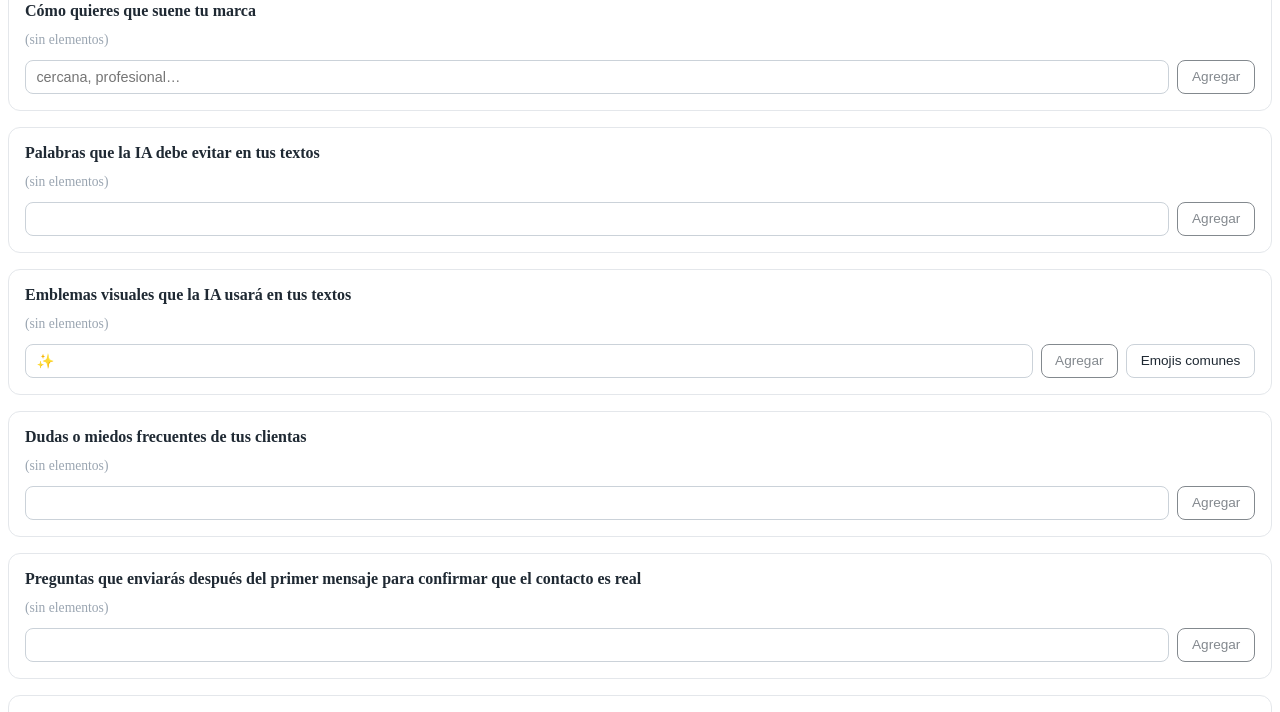
Test: BusinessProfileForm › cierra el popover de emojis al pulsar Escape
(page scrolled)
Expected: the field named "agregar emblemas visuales" is shown, [25, 344, 1032, 378]
Click the button "Emojis comunes" at (1191, 361), box [1126, 344, 1255, 378]
(page scrolled)
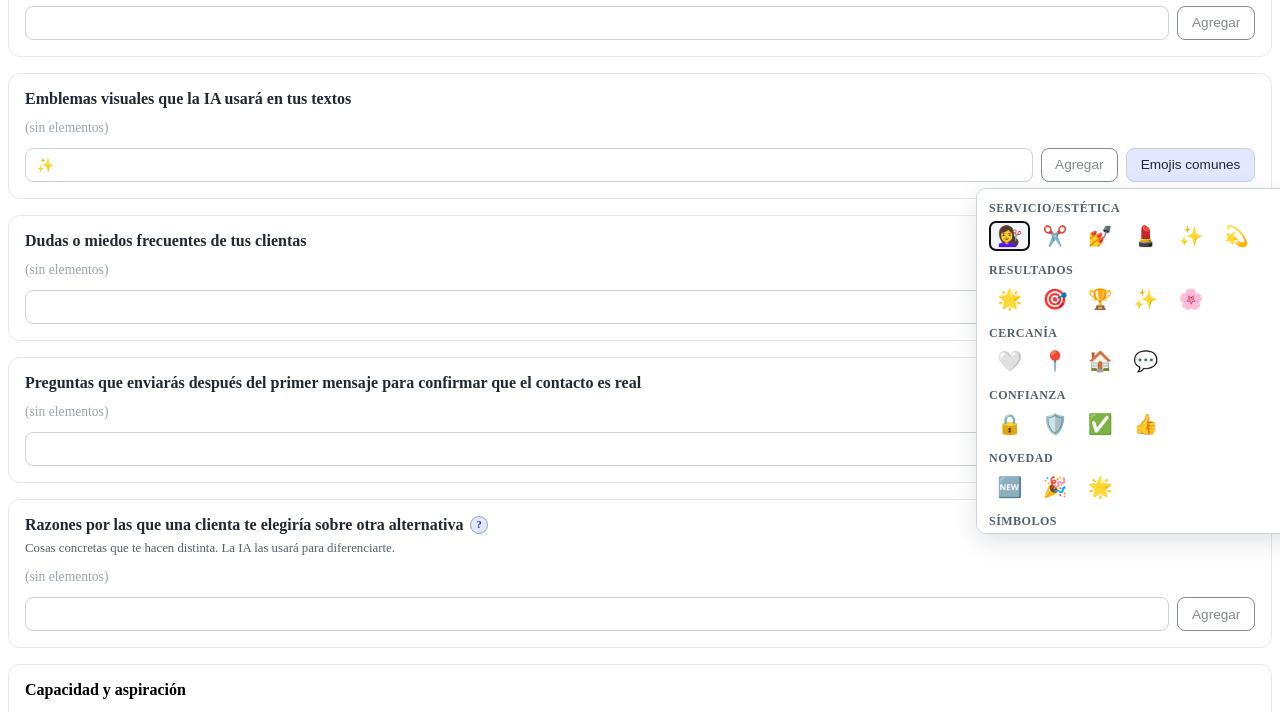
Press Escape
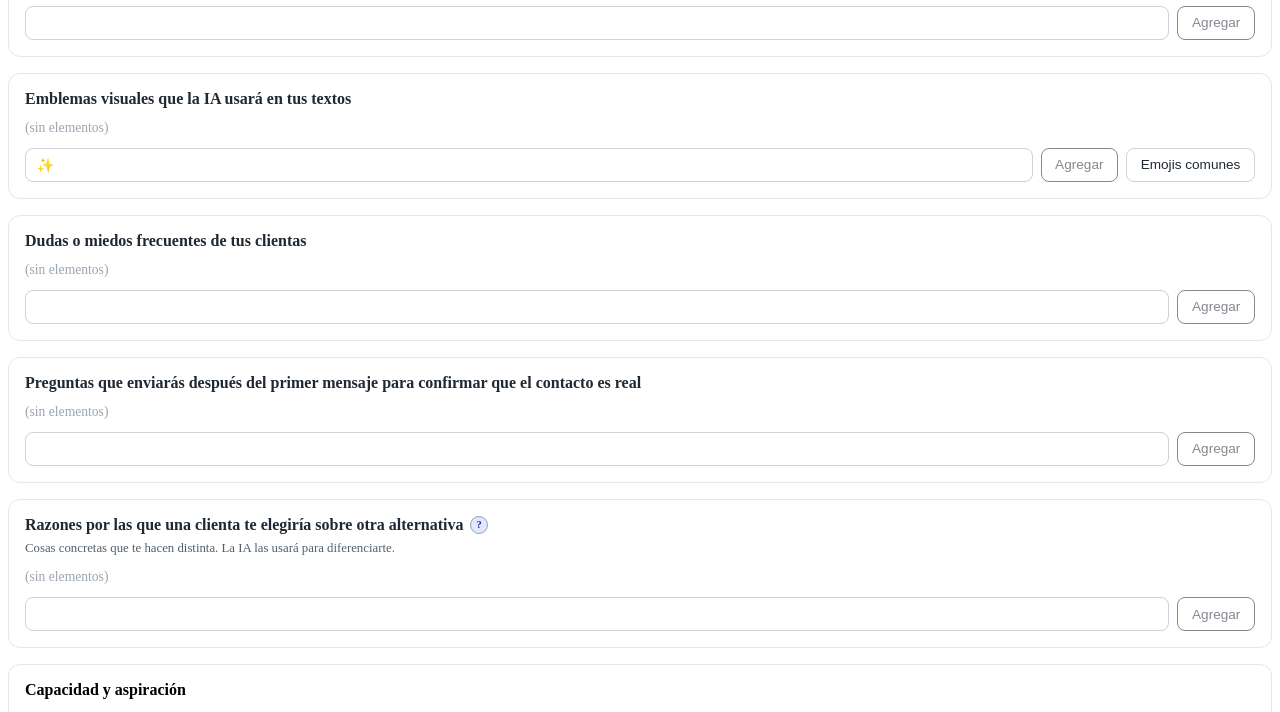
Result: the dialog is gone
